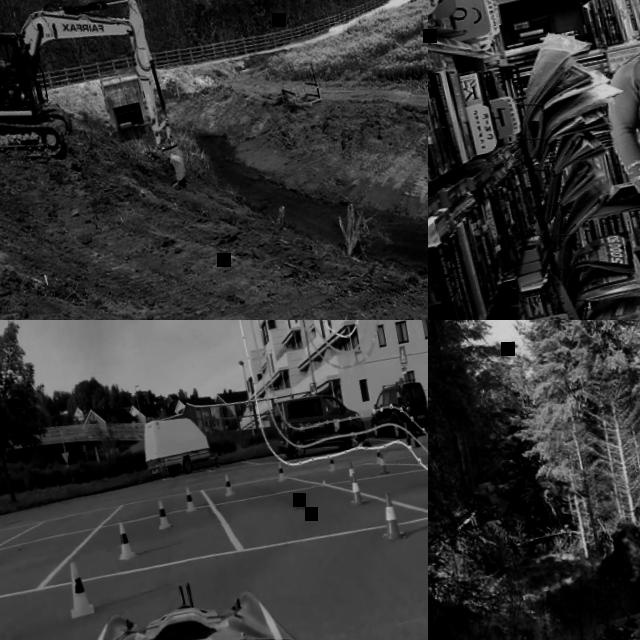NO-Hardhat: (398, 377, 405, 384)
NO-Mask: (400, 385, 404, 391)
NO-Safety Vest: (397, 389, 411, 410)
Person: (393, 376, 421, 449)
Safety Cone: (62, 558, 96, 620), (373, 490, 406, 544), (112, 518, 136, 562), (154, 497, 173, 532), (349, 474, 366, 506), (219, 470, 236, 499), (182, 484, 197, 515), (375, 450, 389, 477), (345, 460, 360, 484), (274, 460, 287, 484), (373, 442, 385, 467), (326, 451, 337, 473)
machinery: (0, 0, 193, 233)
vehicle: (0, 518, 428, 640), (268, 382, 370, 463), (364, 372, 428, 438)
